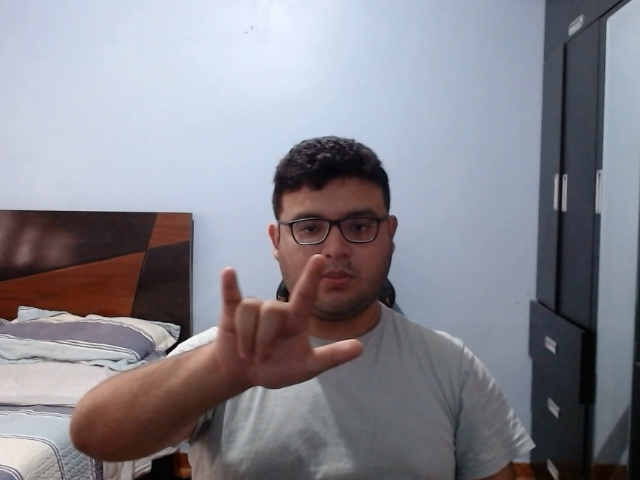I love you: (212, 251, 366, 397)
